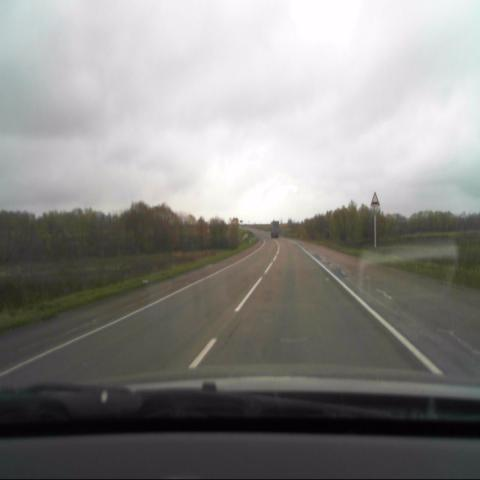1_16: (371, 191, 380, 207)
